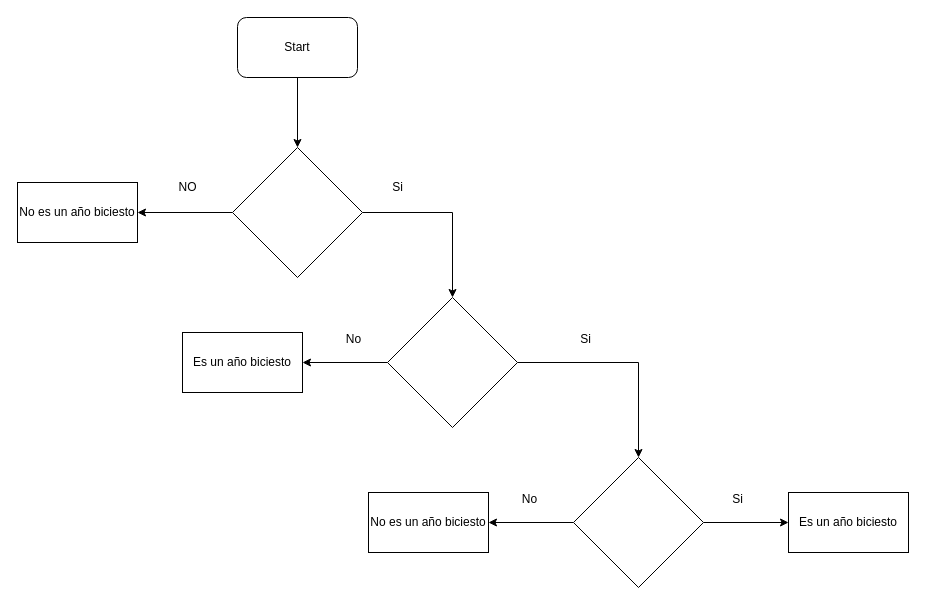
This 926x605 diagram has some shape labels left out. Each missing label, with the box of its shape:
Es divisible entre 100?: (386, 296, 518, 428)
Es divisible entre 400?: (572, 456, 704, 588)
Es divisible entre 4?: (232, 146, 362, 278)
